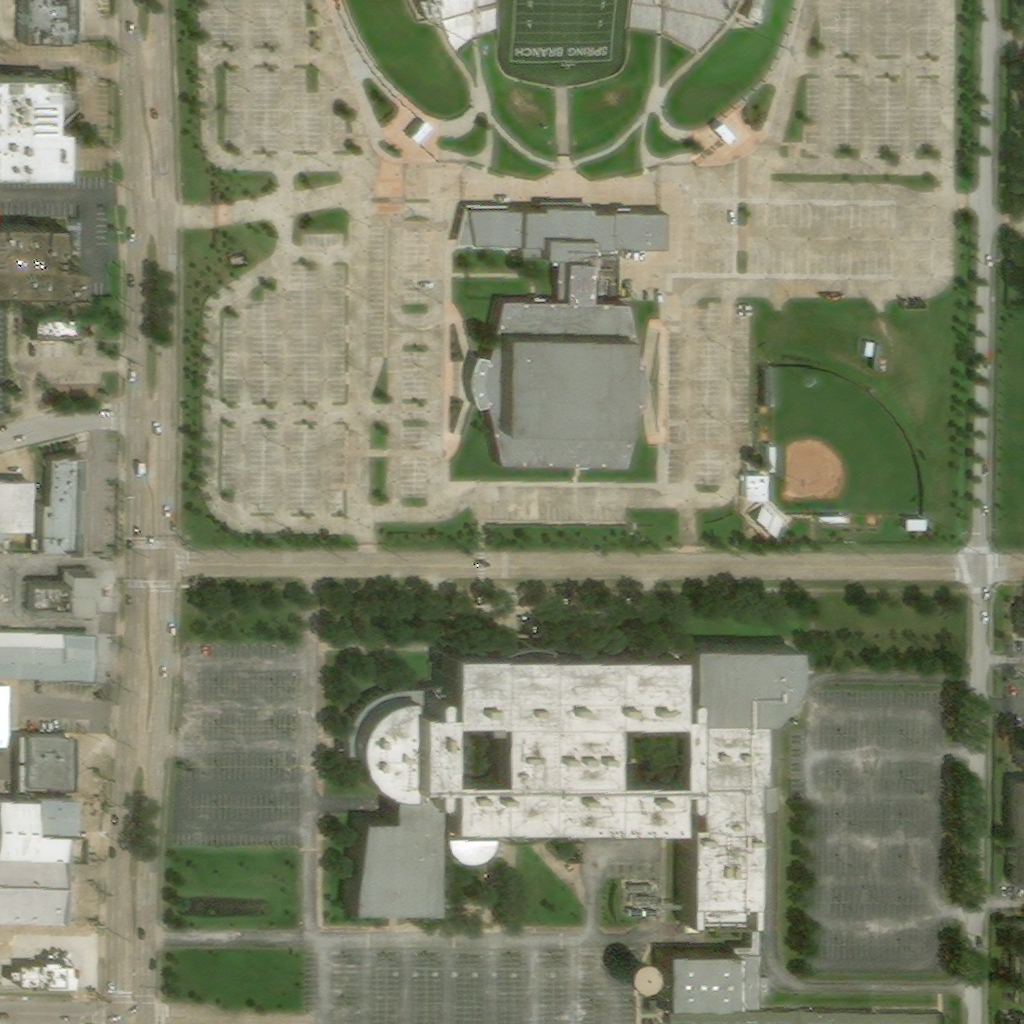minor_damage: (341, 637, 672, 835), (665, 683, 768, 927), (437, 827, 491, 866)
no_damage: (469, 258, 646, 468), (346, 778, 441, 918), (660, 900, 769, 1013), (457, 203, 665, 261), (0, 631, 95, 750), (685, 636, 797, 731), (0, 798, 80, 929), (0, 68, 77, 177), (0, 219, 86, 303), (40, 447, 83, 556), (29, 571, 96, 623), (18, 732, 73, 794), (19, 0, 76, 45), (8, 960, 77, 991), (0, 477, 30, 534), (26, 313, 82, 341), (752, 504, 793, 541), (1009, 775, 1022, 887), (38, 796, 75, 829), (613, 945, 645, 977), (1011, 920, 1022, 1006), (713, 120, 737, 145), (747, 475, 769, 501), (765, 367, 778, 411), (409, 120, 432, 143), (820, 516, 848, 526), (907, 519, 927, 530)
